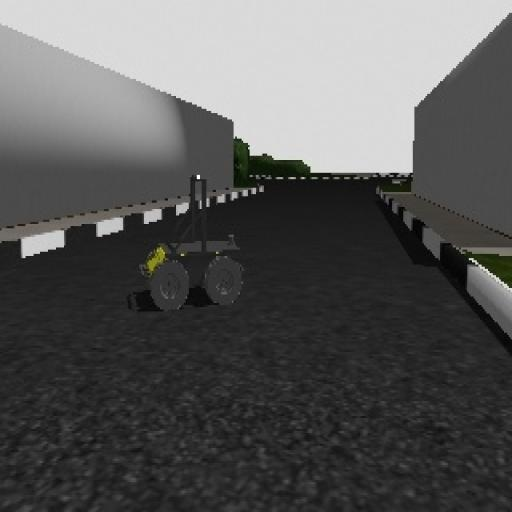huskya200: (131, 163, 245, 351)
